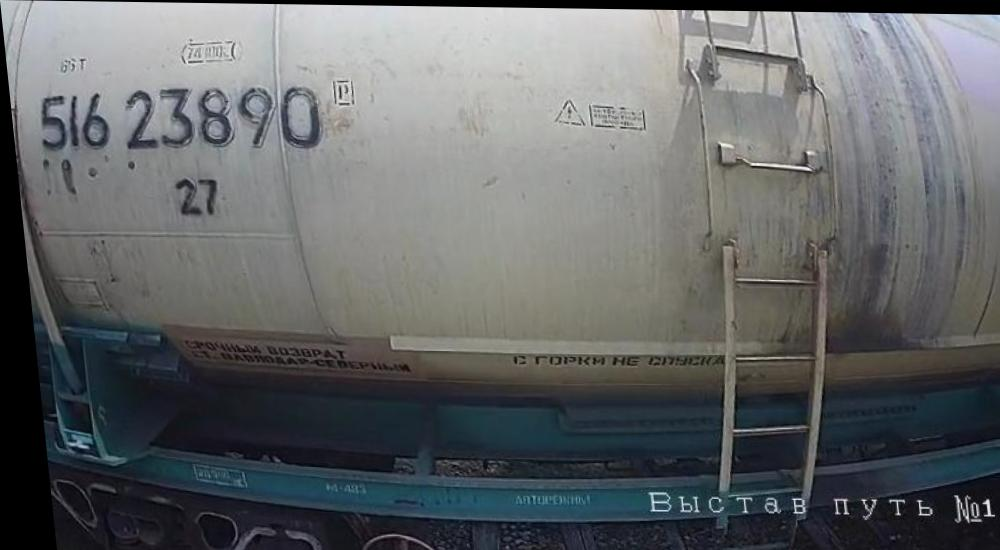Wagon-number: (27, 78, 328, 158)
